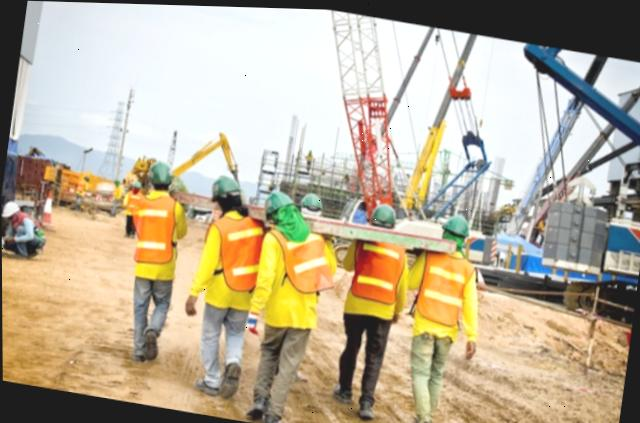helmet: (257, 185, 292, 221), (367, 200, 402, 226), (208, 173, 243, 197), (440, 207, 472, 233), (300, 184, 327, 209), (146, 159, 173, 184), (1, 198, 17, 218), (132, 180, 142, 192)
vest: (411, 244, 477, 322), (347, 234, 402, 299), (216, 209, 259, 285), (276, 224, 326, 287), (139, 192, 175, 266), (12, 212, 38, 237), (126, 186, 143, 212)
